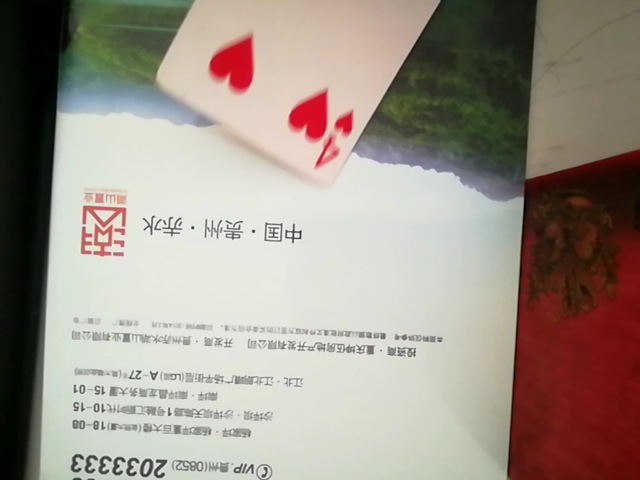hx 4: (135, 1, 523, 174)
